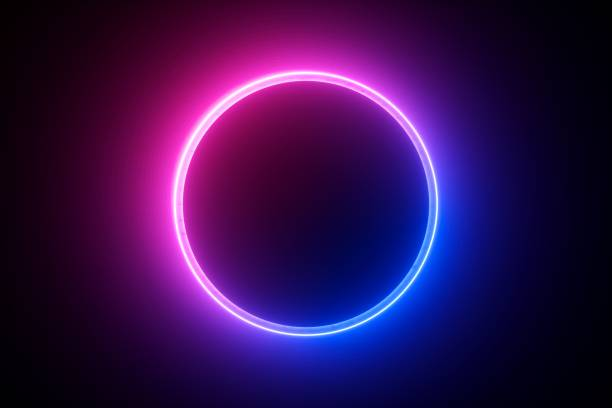daire: (172, 69, 443, 337)
